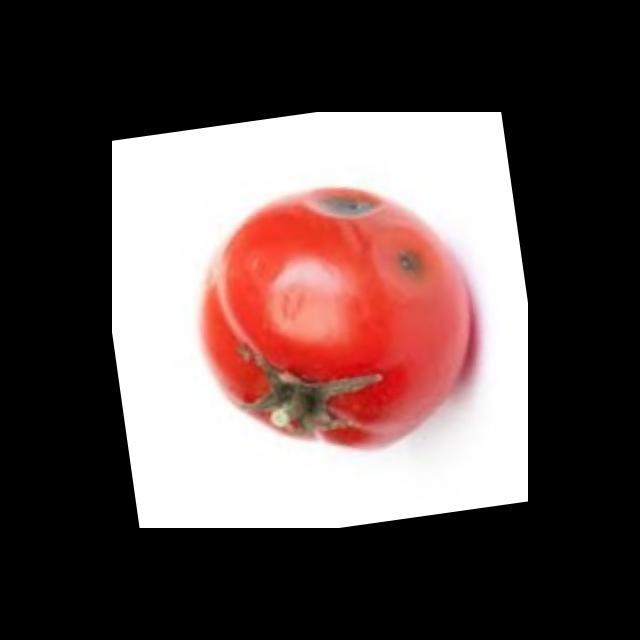tomato: (189, 176, 481, 458)
